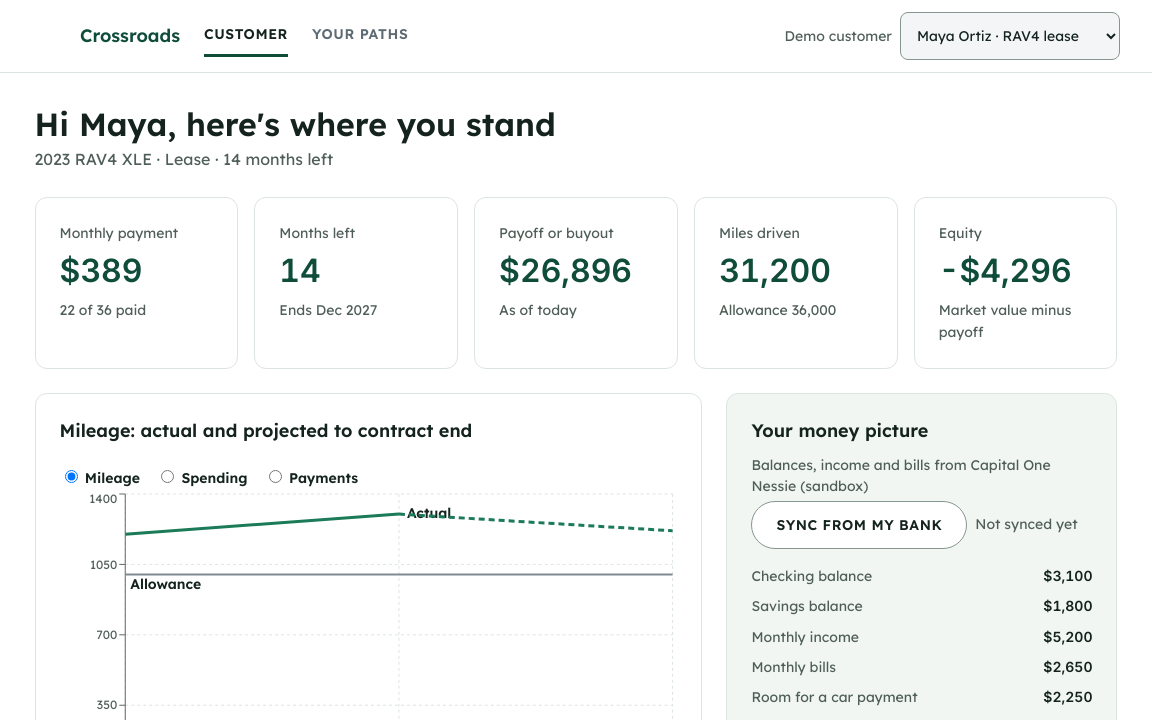
Test: Customer overview › shows an empty state for spending when there is none
Check: the heading "Hi Maya, here's where you stand" is shown, box x1=34 y1=104 x2=556 y2=144
What coordinates should you click on to do the following:
click the radio button labelled "Spending"
I would click on:
 (168, 476)
Its box is x1=161 y1=470 x2=174 y2=483.
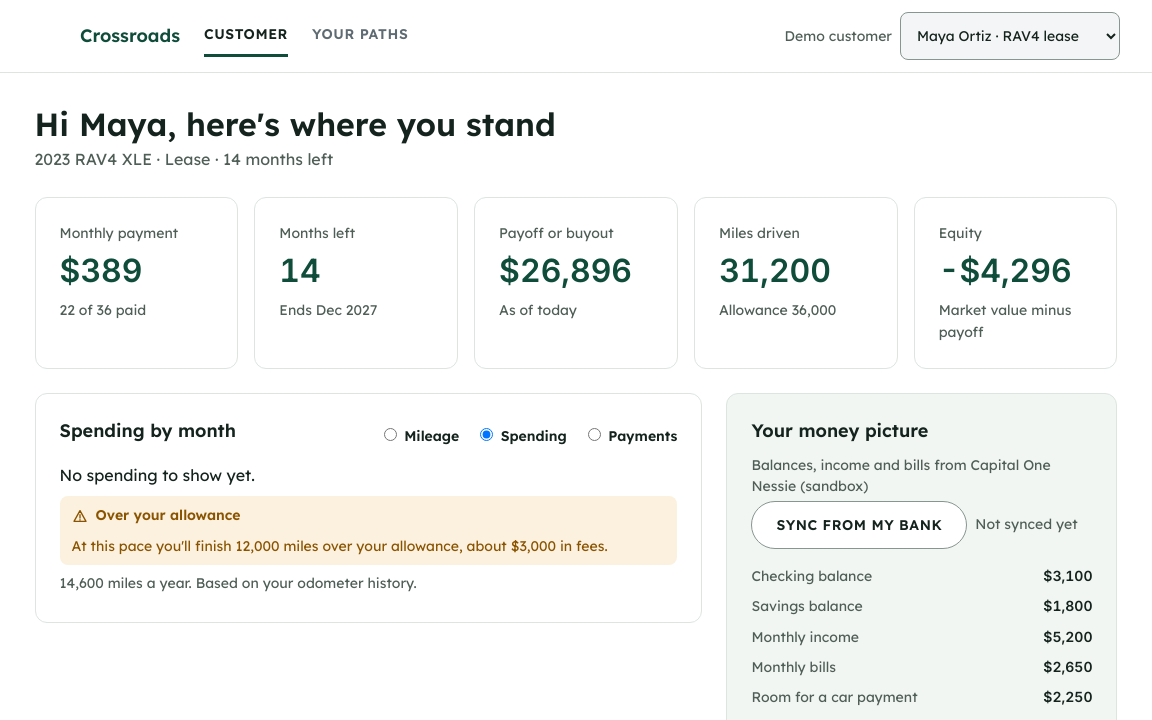
Check: the text "No spending to show yet." is shown, box x1=60 y1=465 x2=255 y2=485
